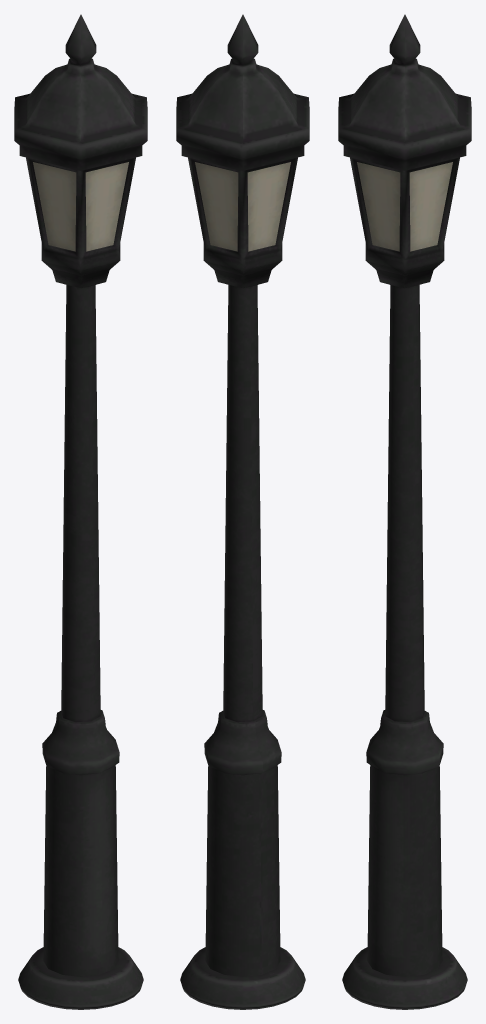
Rendered from EvtobjLamp.glb.
3 views of the same model, side by side, from view 1: azimuth 30°, elevation 25°; view 2: azimuth 210°, elevation 25°; view 3: azimuth 330°, elevation 25° (orthographic).
Visible parts, largest first — view 1: FtrStreetlamp_body_u_low__mReBody; view 2: FtrStreetlamp_body_u_low__mReBody; view 3: FtrStreetlamp_body_u_low__mReBody.
Part boxes in pixels (x1,y1,x2,y2): FtrStreetlamp_body_u_low__mReBody: [14, 14, 147, 1009]; FtrStreetlamp_body_u_low__mReBody: [176, 14, 309, 1009]; FtrStreetlamp_body_u_low__mReBody: [338, 14, 471, 1009].
Bounding box in the file's own units: 4.19 × 29.15 × 3.63.
1 material, 1 textured.
